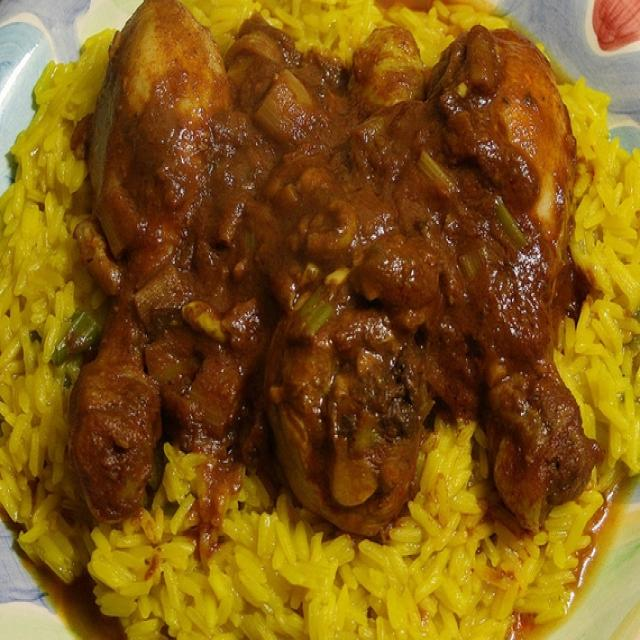米饭主食: (9, 8, 630, 632)
